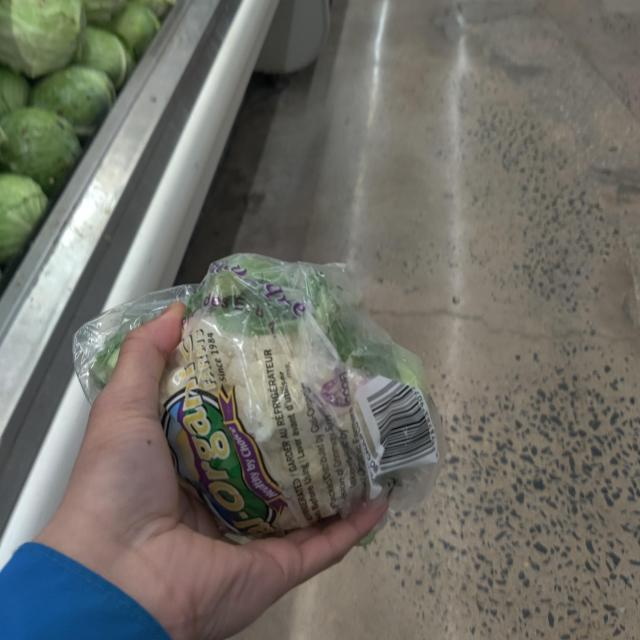Cabbage: (0, 104, 81, 190), (0, 0, 86, 74), (36, 70, 116, 133), (0, 174, 51, 266)
Cauliflower: (165, 252, 428, 537)
